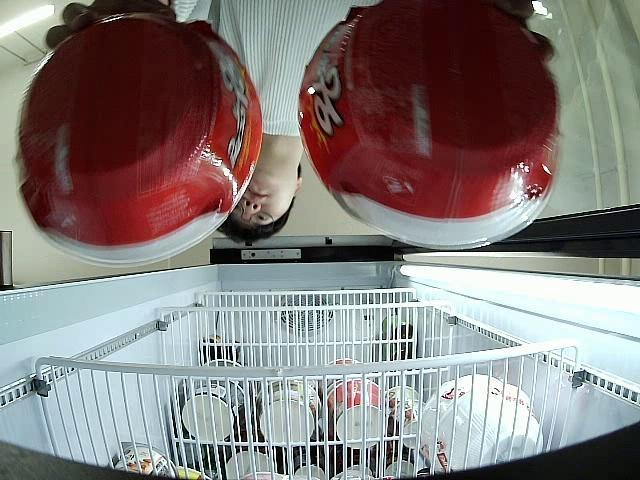10_wangTtukkeong: (298, 0, 560, 249), (15, 12, 264, 268)
